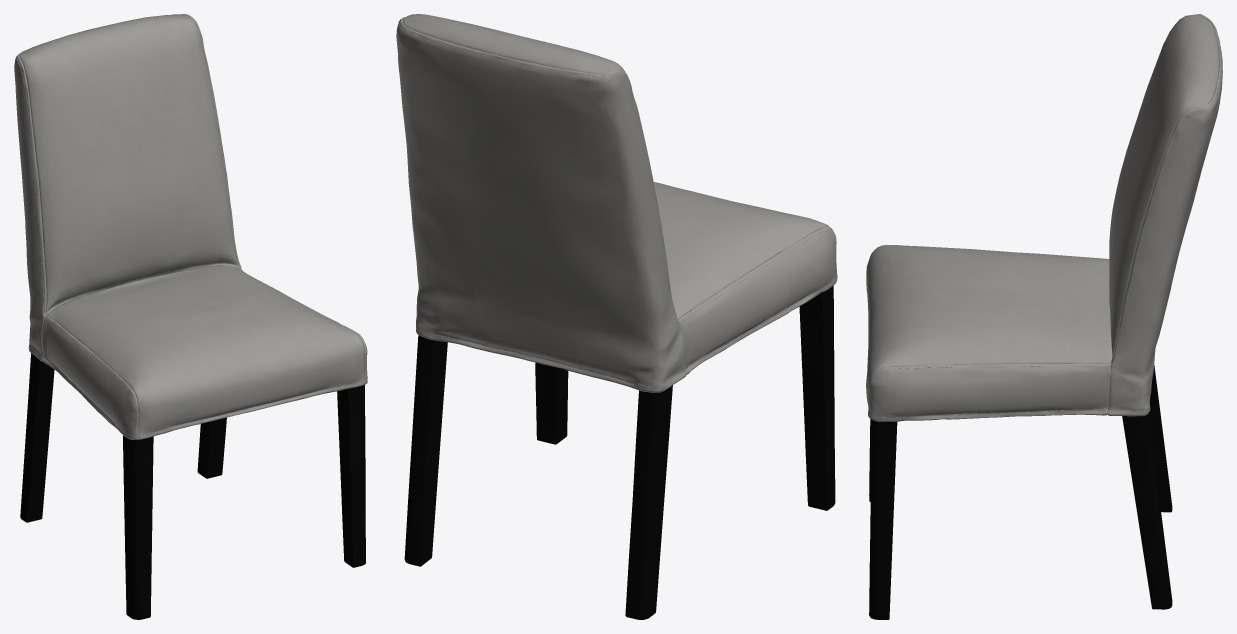
The model's file is 37 - BERGMUND - 餐椅, 黑色Orrsta 淺灰色 IKEA 線上購物.glb.
3 views of the same model, side by side, from view 1: azimuth 30°, elevation 25°; view 2: azimuth 150°, elevation 25°; view 3: azimuth 270°, elevation 25° (orthographic). The views are drawn at different scales.
Visible parts, largest first — view 1: 59385977; view 2: 59385977; view 3: 59385977.
Boxes of the visible parts, <box> form: 59385977: <box>14,14,367,619</box>; 59385977: <box>396,14,837,619</box>; 59385977: <box>866,14,1222,619</box>.
Bounding box in the file's own units: 0.5349 × 0.9593 × 0.6146.
Materials: 1 (1 with a texture image).
